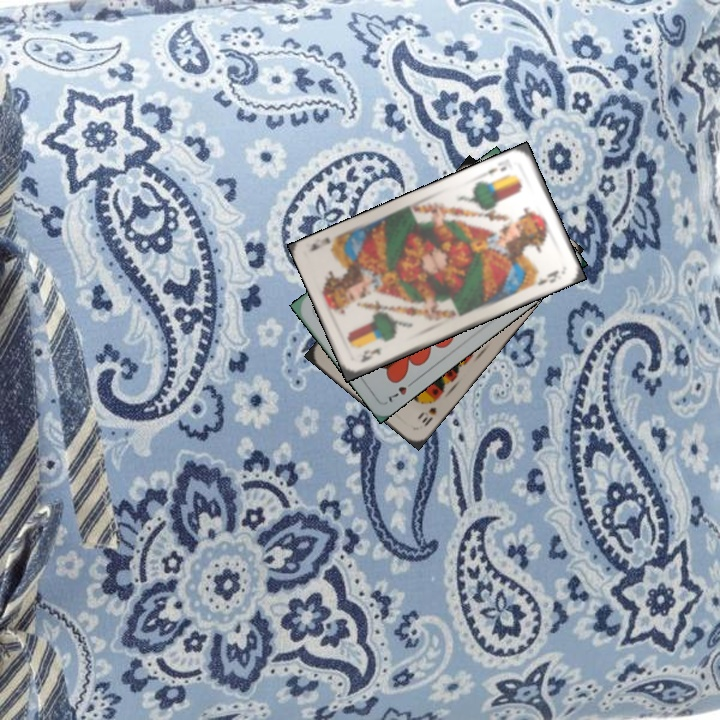EK: (356, 343, 384, 365), (479, 162, 510, 179)
H7: (384, 376, 418, 405)
S10: (418, 403, 439, 430)
